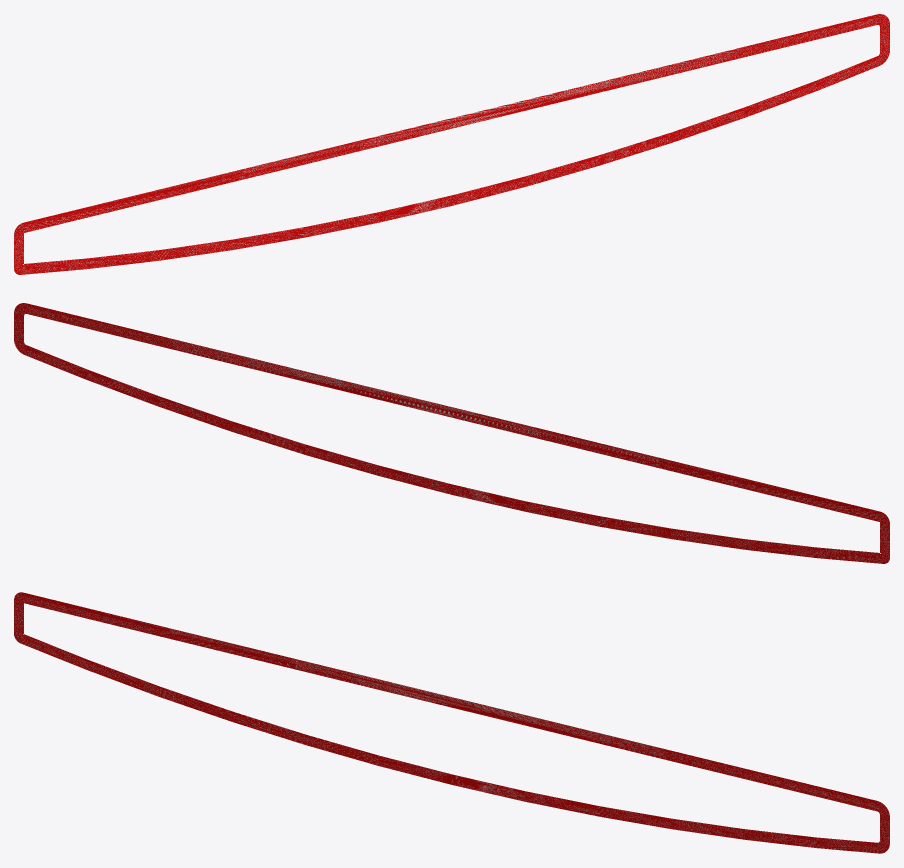
File: original-10.obj
3 views of the same model, one above another, from view 1: azimuth 30°, elevation 25°; view 2: azimuth 150°, elevation 25°; view 3: azimuth 330°, elevation 25° (orthographic).
Visible parts, largest first — view 1: #ID387; view 2: #ID387; view 3: #ID387.
Boxes of the visible parts, left/top/right/bottom form: #ID387: left=14, top=14, right=889, bottom=274; #ID387: left=14, top=303, right=889, bottom=563; #ID387: left=14, top=592, right=889, bottom=853.
Bounding box in the file's own units: 0.8931 × 0.0856 × 0.
